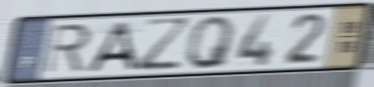2: (283, 11, 327, 67)
4: (233, 12, 278, 69)
A: (83, 20, 139, 75)
Q: (185, 14, 239, 71)
R: (42, 22, 94, 77)
Z: (133, 16, 195, 75)
